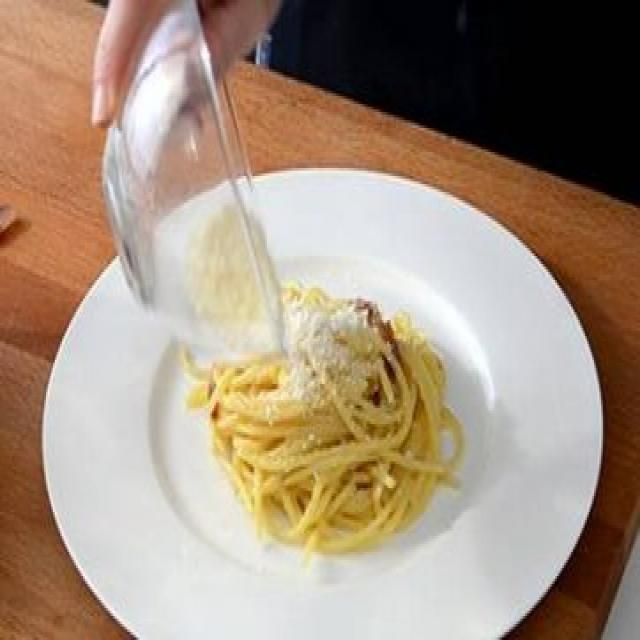Oil pasta: (223, 293, 483, 531)
